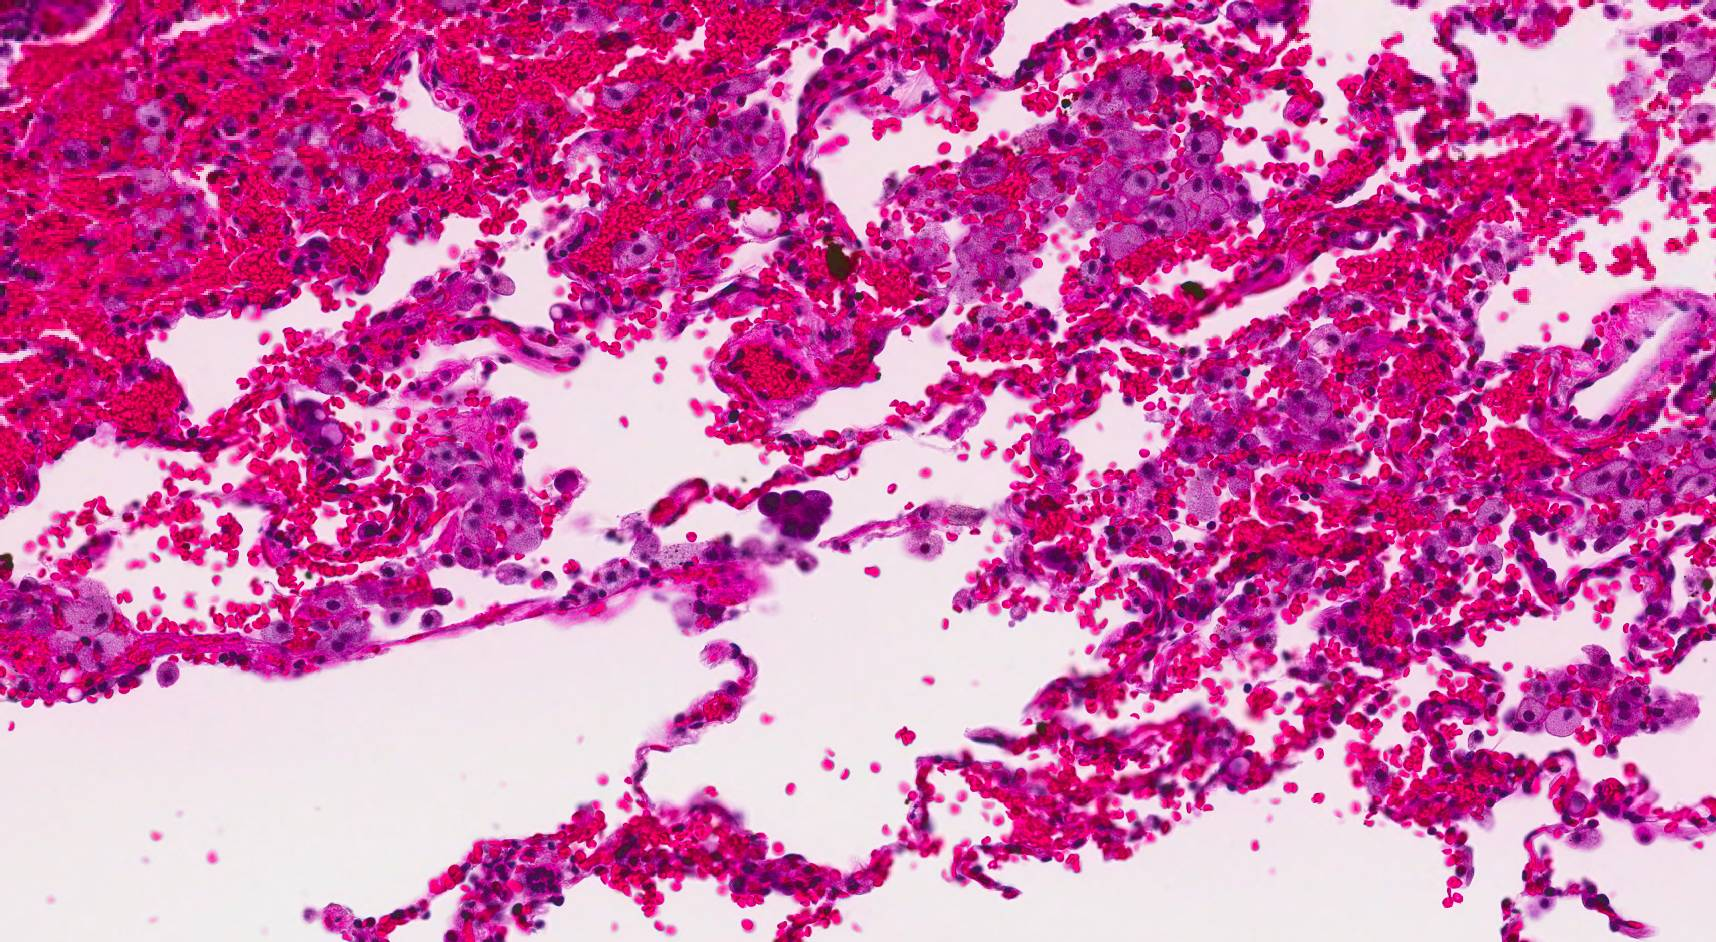stas: (755, 487, 834, 544)
